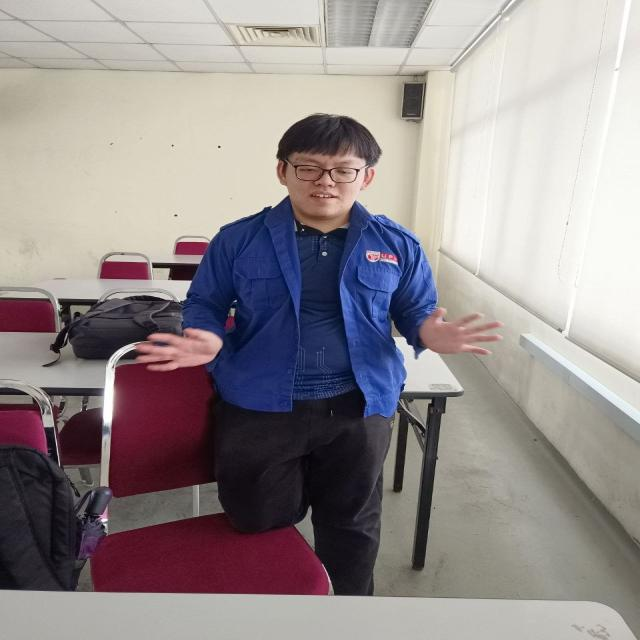person_with_labcoat: (137, 114, 501, 595)
